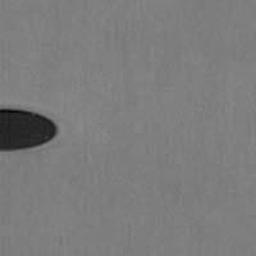Punching: (0, 109, 57, 151)
